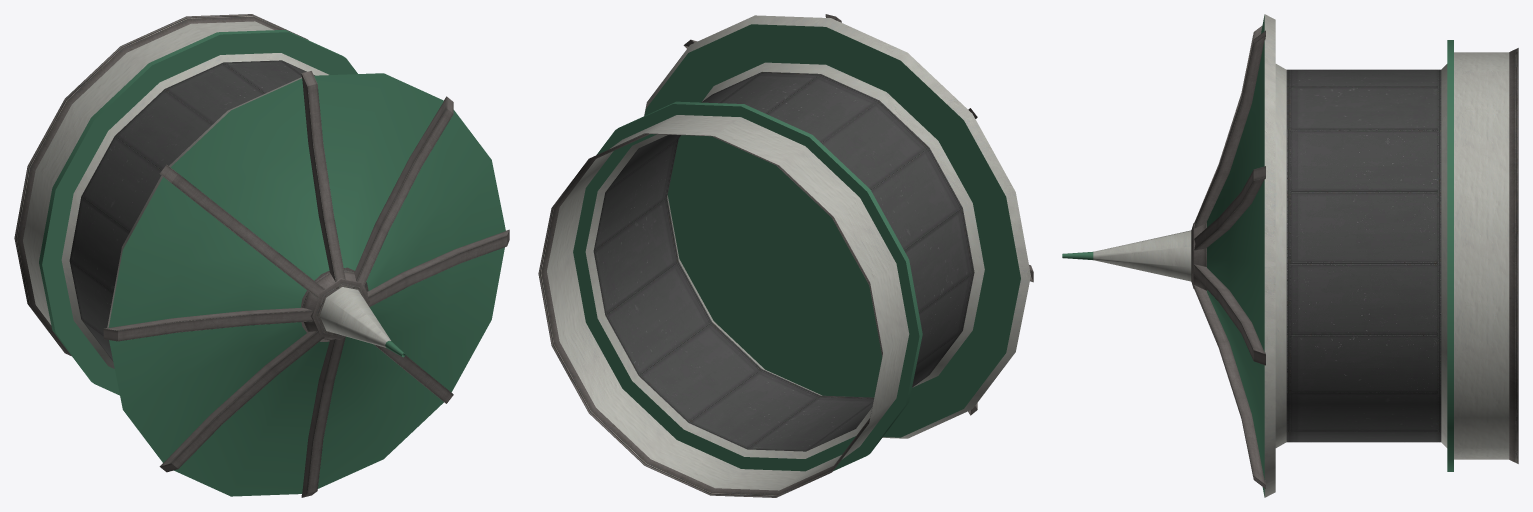
File: nt_2020_vista_kiosk_green_LOD0.obj
3 views of the same model, side by side, from view 1: azimuth 30°, elevation 25°; view 2: azimuth 150°, elevation 25°; view 3: azimuth 270°, elevation 25° (orthographic). The views are drawn at different scales.
Visible parts, largest first — view 1: nt_2020_plastic_green, metal_trim_black_clean, facade_glass_window_01_gray, plaster_whitewall_01; view 2: nt_2020_plastic_green, facade_glass_window_01_gray, plaster_whitewall_01, metal_trim_black_clean; view 3: facade_glass_window_01_gray, plaster_whitewall_01, nt_2020_plastic_green, metal_trim_black_clean.
Part boxes in pixels (x1,y1,x2,y2): nt_2020_plastic_green: (39,29,505,496); metal_trim_black_clean: (14,14,509,497); facade_glass_window_01_gray: (69,60,314,361); plaster_whitewall_01: (23,21,390,368); nt_2020_plastic_green: (573,24,1020,471); facade_glass_window_01_gray: (593,72,974,451); plaster_whitewall_01: (547,15,1030,490); metal_trim_black_clean: (538,14,1033,497); facade_glass_window_01_gray: (1286,69,1441,442); plaster_whitewall_01: (1093,14,1509,497); nt_2020_plastic_green: (1062,15,1453,496); metal_trim_black_clean: (1191,25,1518,488).
Size of the model in its own units: 740 by 740 by 686.
